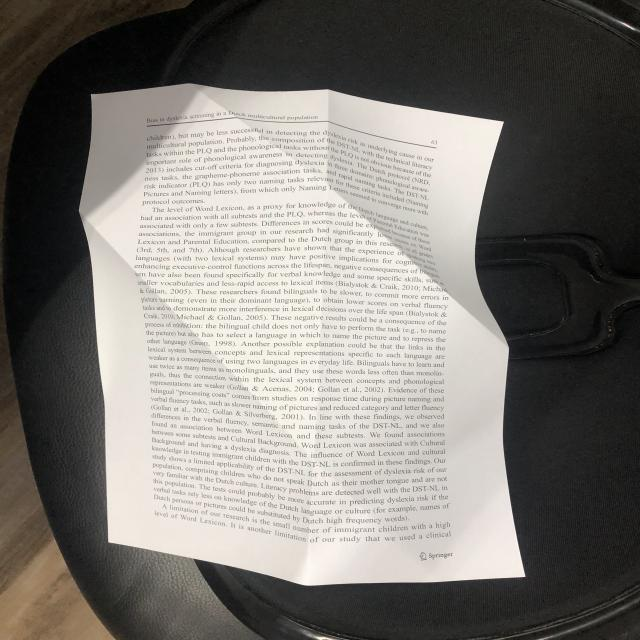kertas: (75, 68, 524, 599)
